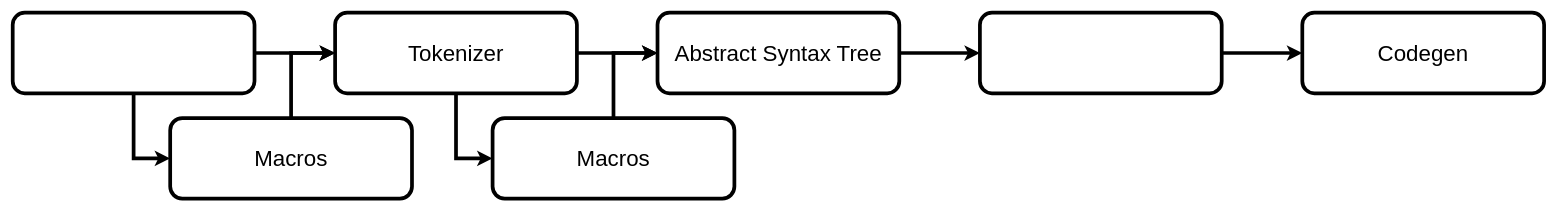
Image size: 1556x211. Some labels were removed from this diagram. The centre of each missing label's shape, as x and y in pixels:
Semantic Checks: (1100,53)
Source Code: (133,53)
